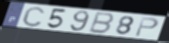5: (46, 8, 69, 30)
8: (115, 15, 135, 35)
9: (69, 10, 91, 32)
B: (87, 11, 117, 35)
C: (21, 6, 46, 28)
P: (133, 17, 160, 38)
